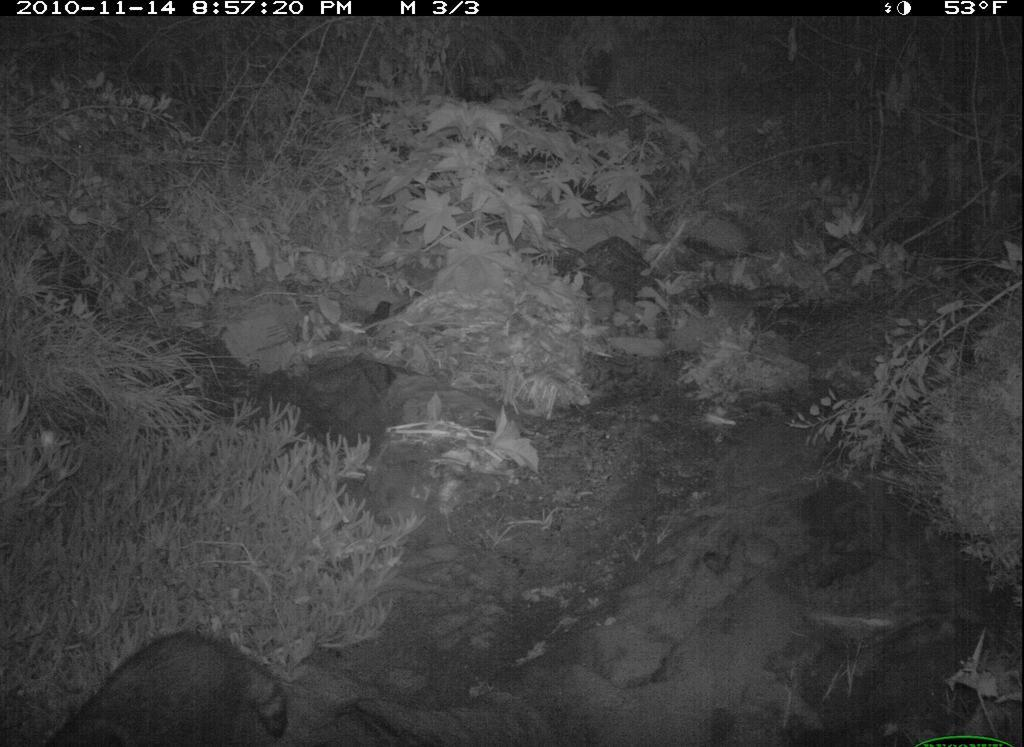raccoon: (52, 624, 341, 745)
